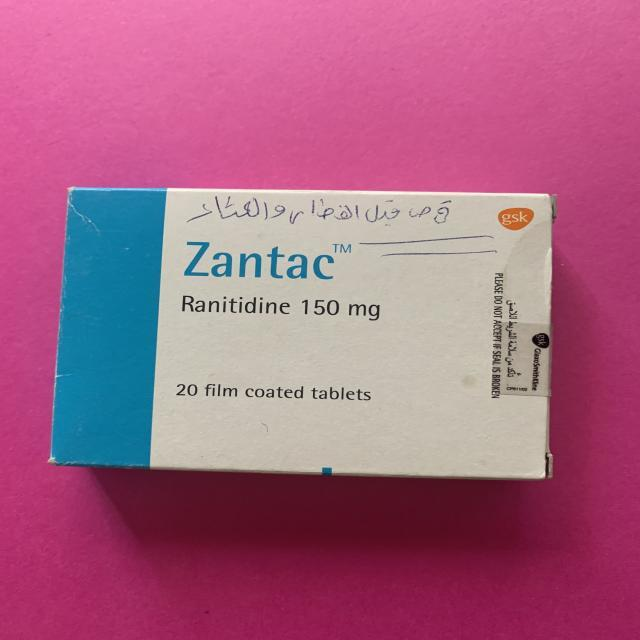Medicine Name: (176, 232, 339, 288)
